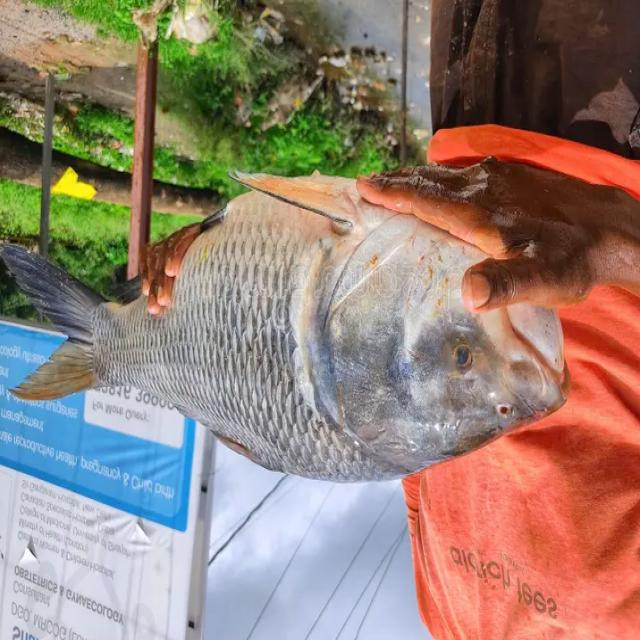Catla: (0, 172, 573, 481)
